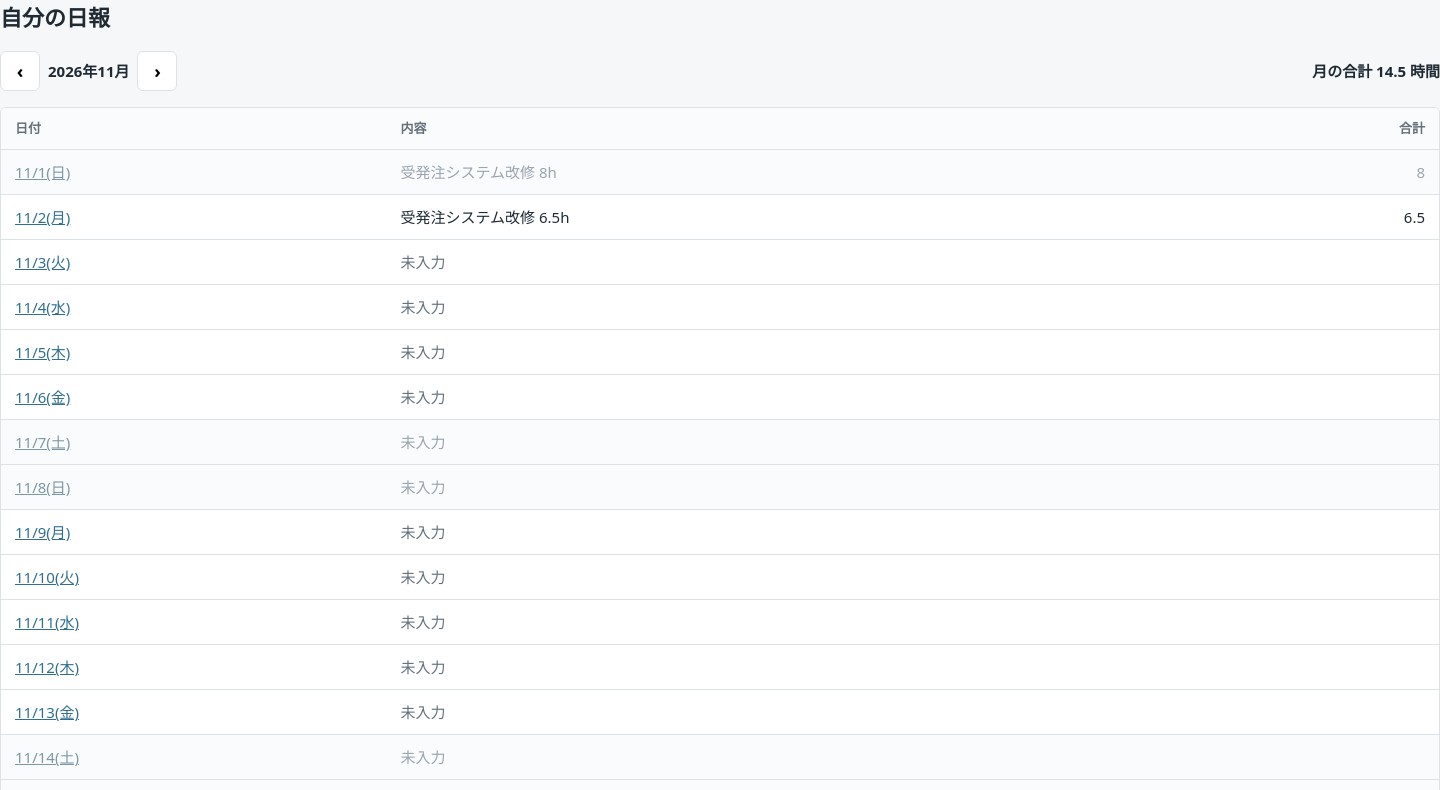
Test: 未来の日は押せない(今日までだけ押せる)
The width and height of the screenshot is (1440, 790).
Expected: the text "受発注システム改修 8h" is shown, [386,150,1212,194]
Click the button named "次の月".
click(158, 71)  # box [138,51,178,91]
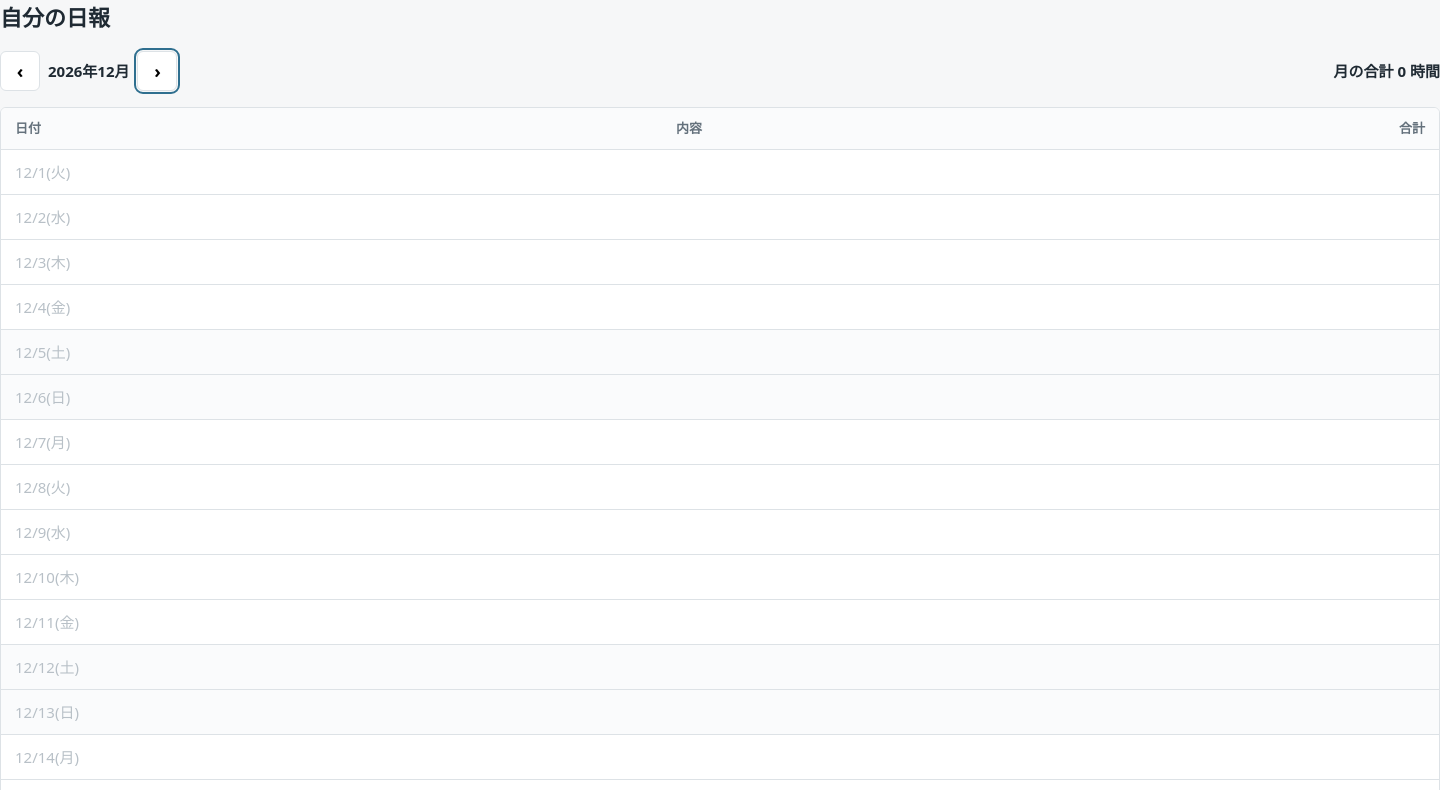
Expected: the text "月の合計 0 時間" is shown, [1334,59,1439,83]
Expected: no the button "11/1(日)" are shown
